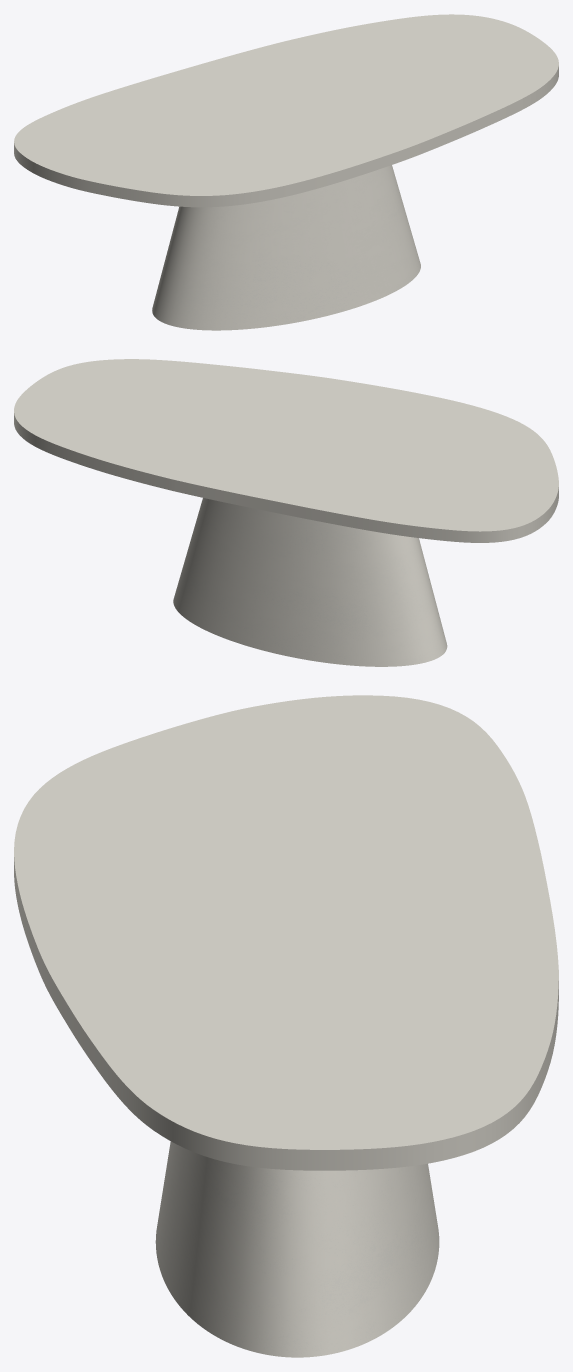
The model's file is pale_leaf2_standard_eqone.glb.
3 views of the same model, one above another, from view 1: azimuth 30°, elevation 25°; view 2: azimuth 150°, elevation 25°; view 3: azimuth 270°, elevation 25° (orthographic). The views are drawn at different scales.
Visible parts, largest first — view 1: standard_leaf2, eqone; view 2: standard_leaf2, eqone; view 3: standard_leaf2, eqone.
Part boxes in pixels (box(x1,y1,x2,y2)): standard_leaf2: box(14, 14, 558, 207); eqone: box(152, 165, 420, 330); standard_leaf2: box(14, 359, 558, 542); eqone: box(173, 498, 447, 666); standard_leaf2: box(14, 695, 558, 1170); eqone: box(155, 1141, 439, 1357).
Bounding box in the file's own units: 7.5 × 2.52 × 3.8.
Materials: 1 (1 with a texture image).
